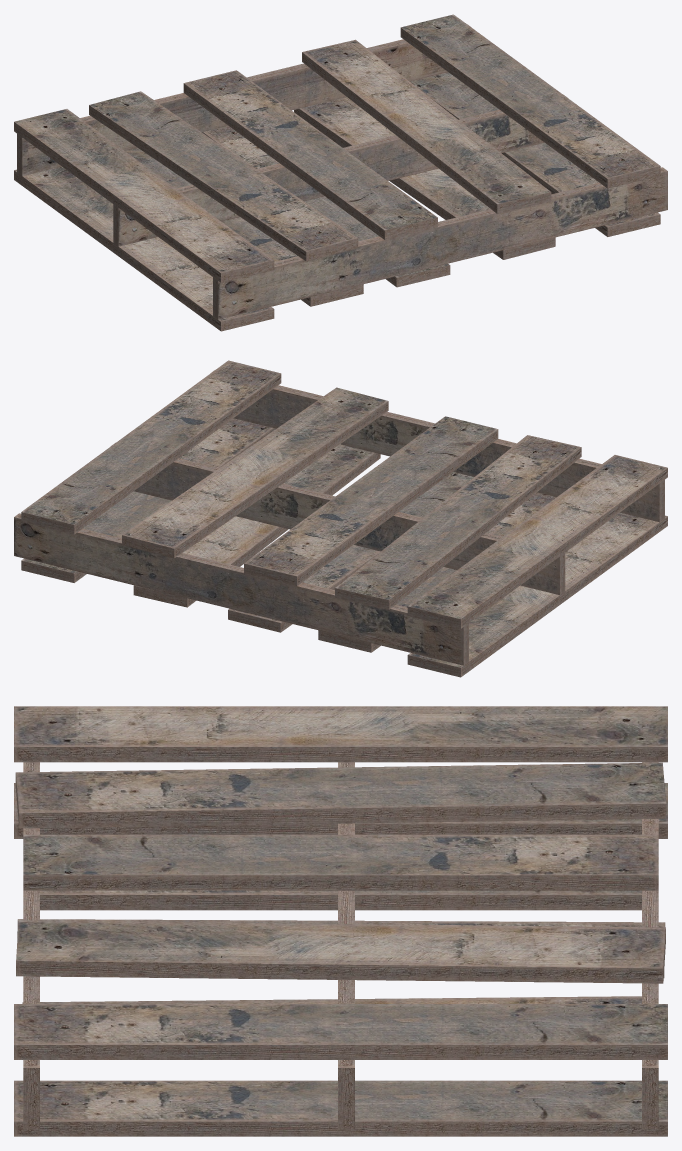
The model's file is Palet_v1_single (5).glb.
3 renders of one model, top to bottom at view 1: azimuth 30°, elevation 25°; view 2: azimuth 150°, elevation 25°; view 3: azimuth 270°, elevation 25°, orthographic. The views are drawn at different scales.
Parts seen in each view (by area): view 1: Palet_v1_single (5); view 2: Palet_v1_single (5); view 3: Palet_v1_single (5).
Boxes of the visible parts, box(x1,y1,x2,y2) form: Palet_v1_single (5): box(14, 14, 667, 331); Palet_v1_single (5): box(14, 360, 667, 677); Palet_v1_single (5): box(14, 706, 667, 1136).
Bounding box in the file's own units: 1.75 × 0.2164 × 1.4.
1 material, 1 textured.
